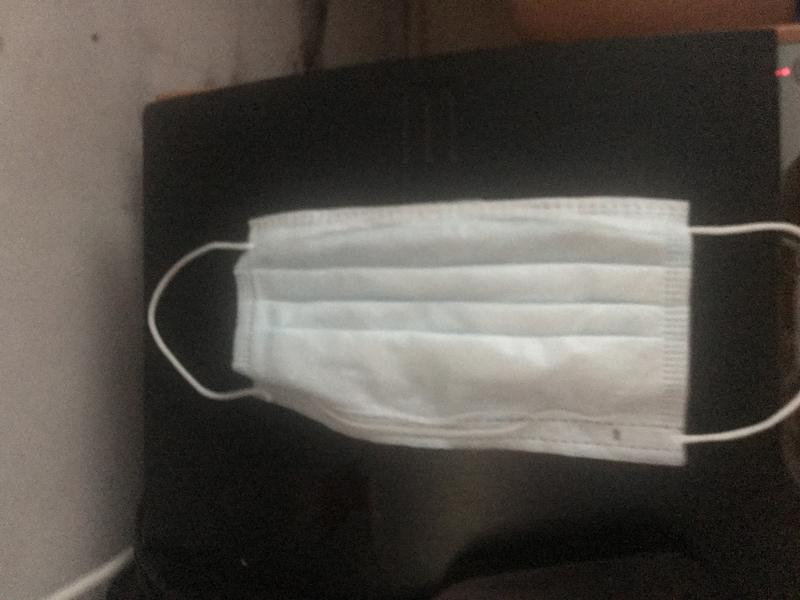medical_mask: (148, 197, 800, 445)
